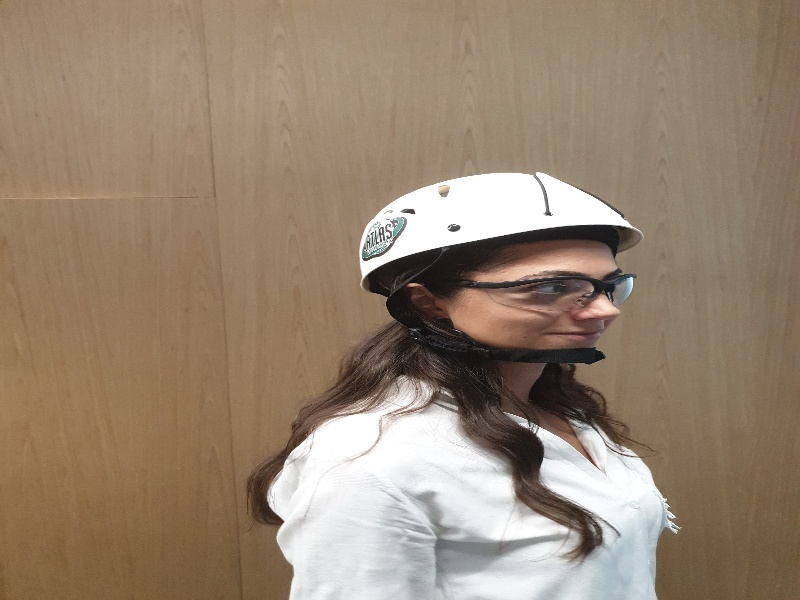Baret: (357, 172, 644, 260)
Gozluk: (433, 273, 635, 310)
